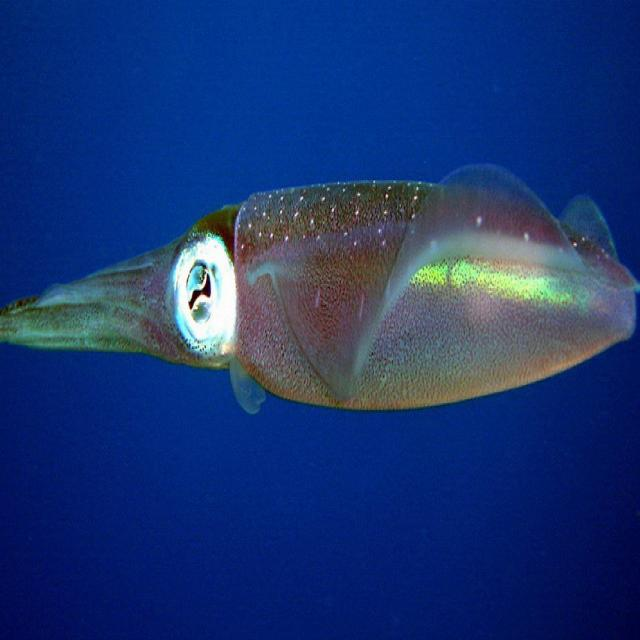SQUID: (0, 156, 640, 444)
